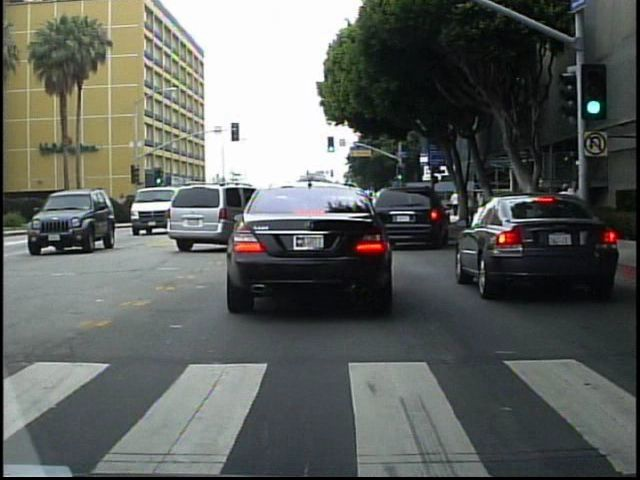person: (569, 175, 587, 236), (450, 187, 459, 218)
